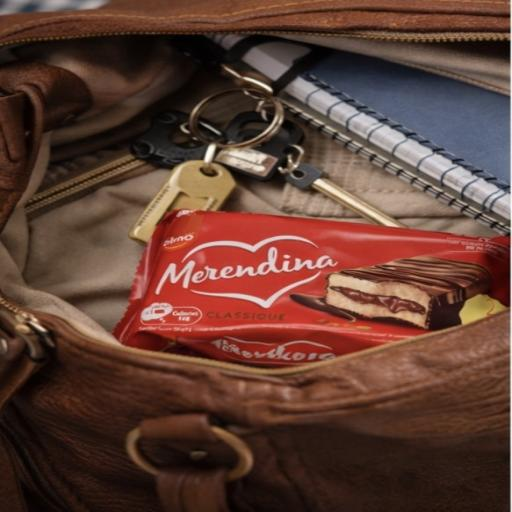merendina: (121, 189, 507, 399)
